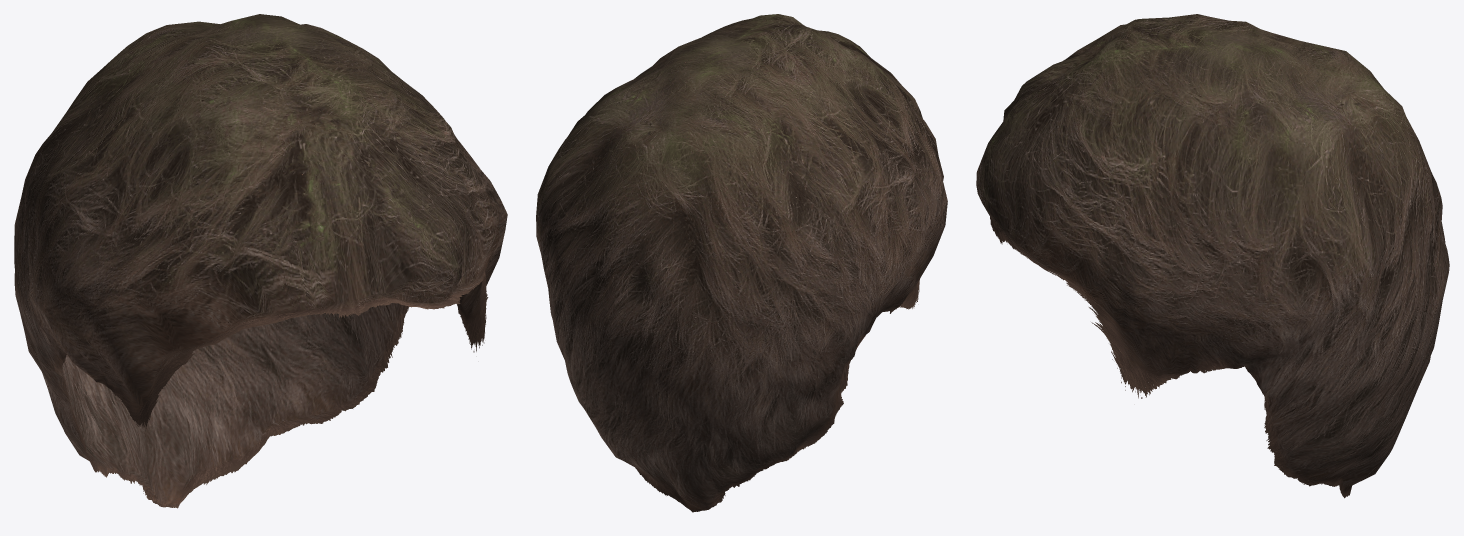
File: short_simple.fbx
The picture shows the model from 3 angles, left to right: view 1: azimuth 30°, elevation 25°; view 2: azimuth 150°, elevation 25°; view 3: azimuth 270°, elevation 25°; orthographic projection. The views are drawn at different scales.
Parts seen in each view (by area): view 1: mesh.003; view 2: mesh.003; view 3: mesh.003.
Boxes of the visible parts, box(x1,y1,x2,y2) form: mesh.003: box(14, 14, 507, 508); mesh.003: box(536, 14, 947, 512); mesh.003: box(976, 14, 1449, 498).
Bounding box in the file's own units: 19.19 × 23.13 × 20.75.
